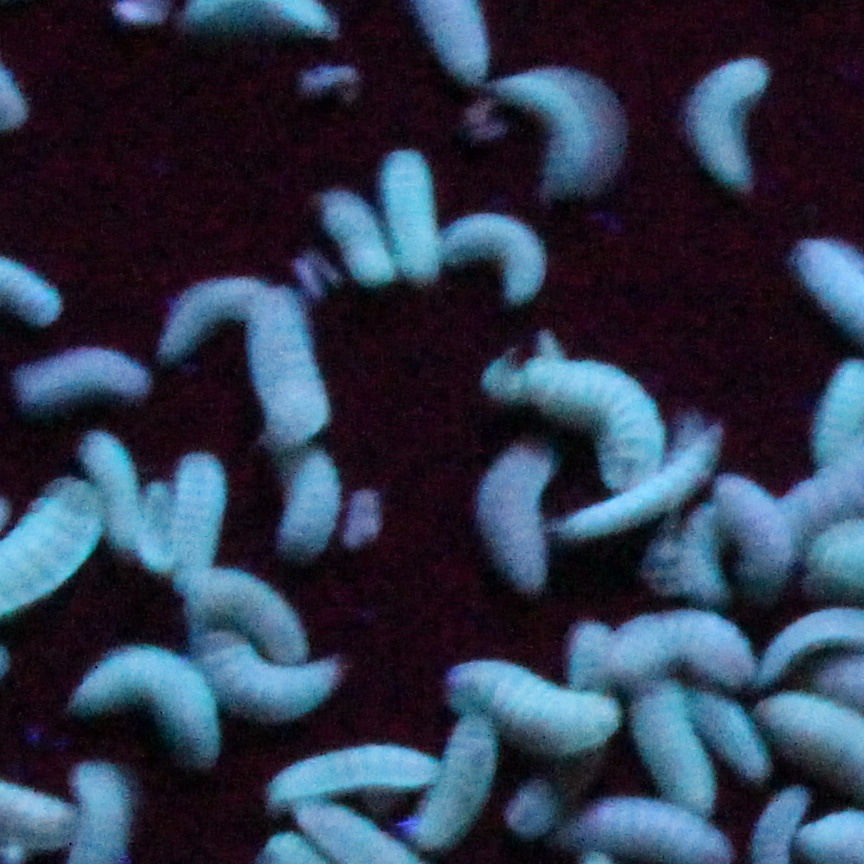larve: (55, 635, 230, 781), (493, 351, 666, 487), (436, 644, 621, 764), (493, 60, 632, 206), (610, 586, 768, 701), (236, 279, 330, 450), (670, 49, 770, 198), (470, 429, 561, 592), (370, 141, 458, 295), (435, 212, 558, 312), (250, 744, 447, 806), (627, 680, 718, 810), (206, 630, 339, 718), (189, 565, 310, 660), (166, 440, 238, 593), (702, 477, 800, 589), (310, 181, 393, 312), (1, 341, 158, 409), (77, 431, 148, 563), (696, 682, 766, 783)
